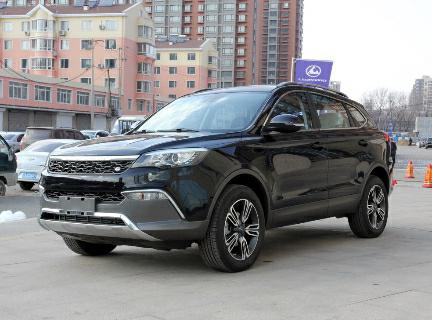猎豹汽车-猎豹CS10: (30, 82, 404, 278)
